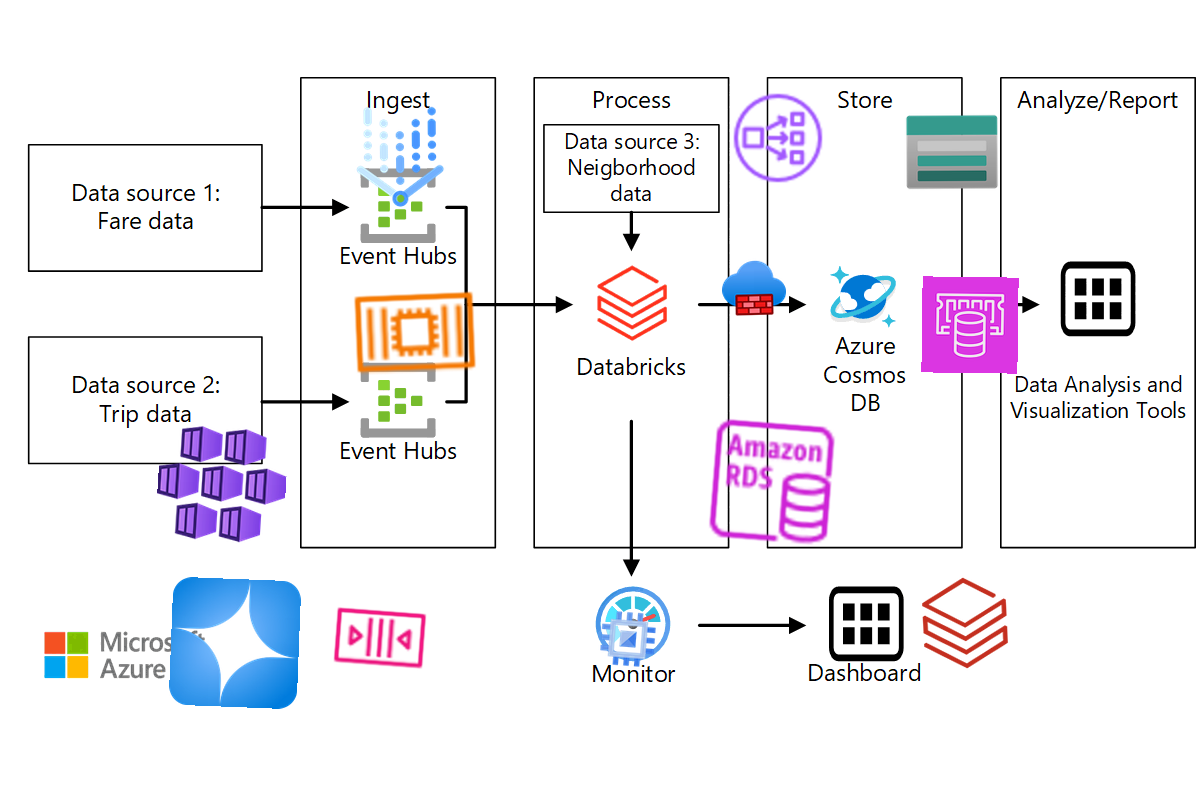aws_amazon_elasticache: (921, 276, 1019, 374)
aws_aurora_amazon_rds_instance: (703, 413, 841, 551)
aws_elastic_container_service_container_2: (348, 265, 482, 399)
aws_elastic_load_balancing_network_load_balancer: (729, 89, 827, 187)
aws_simple_queue_service_queue: (328, 585, 432, 689)
azure_databricks: (914, 572, 1016, 674)
azure_firewalls: (721, 255, 787, 321)
azure_kubernetes_services: (154, 415, 290, 551)
azure_openai: (168, 576, 302, 710)
azure_storage_accounts: (903, 103, 1001, 201)
gcp_compute_engine: (593, 604, 663, 674)
gcp_vertex_ai: (335, 92, 465, 222)
